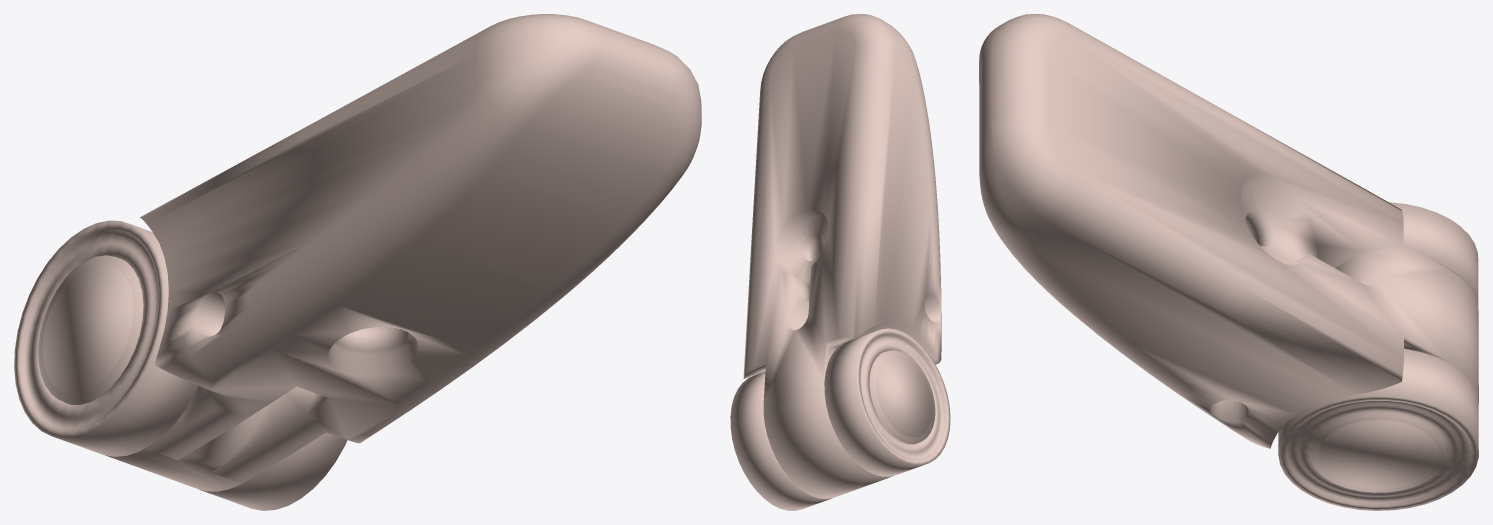
Rendered from thumb_tip_1.obj.
The picture shows the model from 3 angles, left to right: view 1: azimuth 30°, elevation 25°; view 2: azimuth 150°, elevation 25°; view 3: azimuth 270°, elevation 25°; orthographic projection. The views are drawn at different scales.
Bounding box in the file's own units: 23.44 × 29.43 × 24.89.
